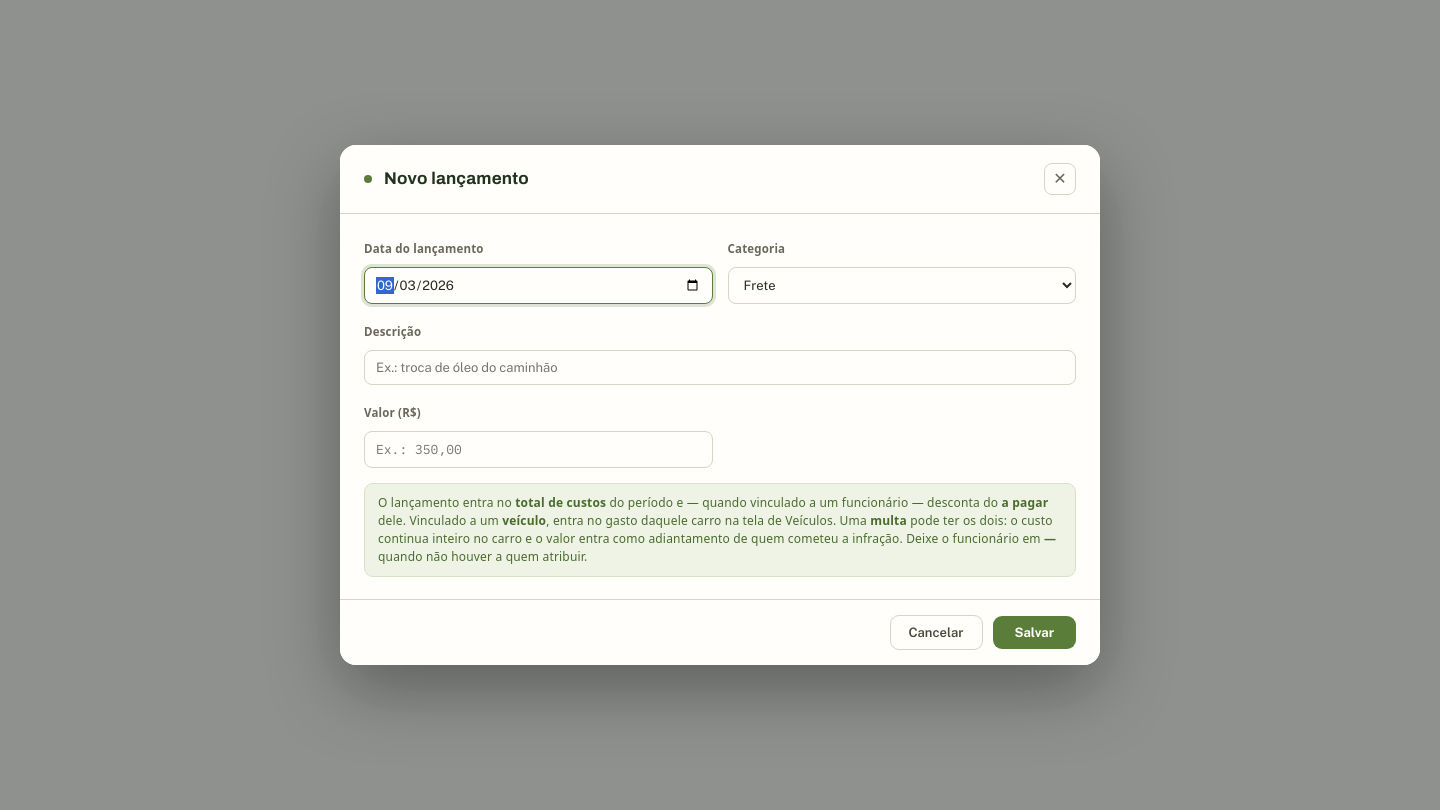
ModalLancamento — campo funcionário só nas categorias certas › mudar para Salário mostra o campo funcionario
Select "Salário" in the dropdown labelled "Categoria" at (902, 286), box [728,267,1076,304]
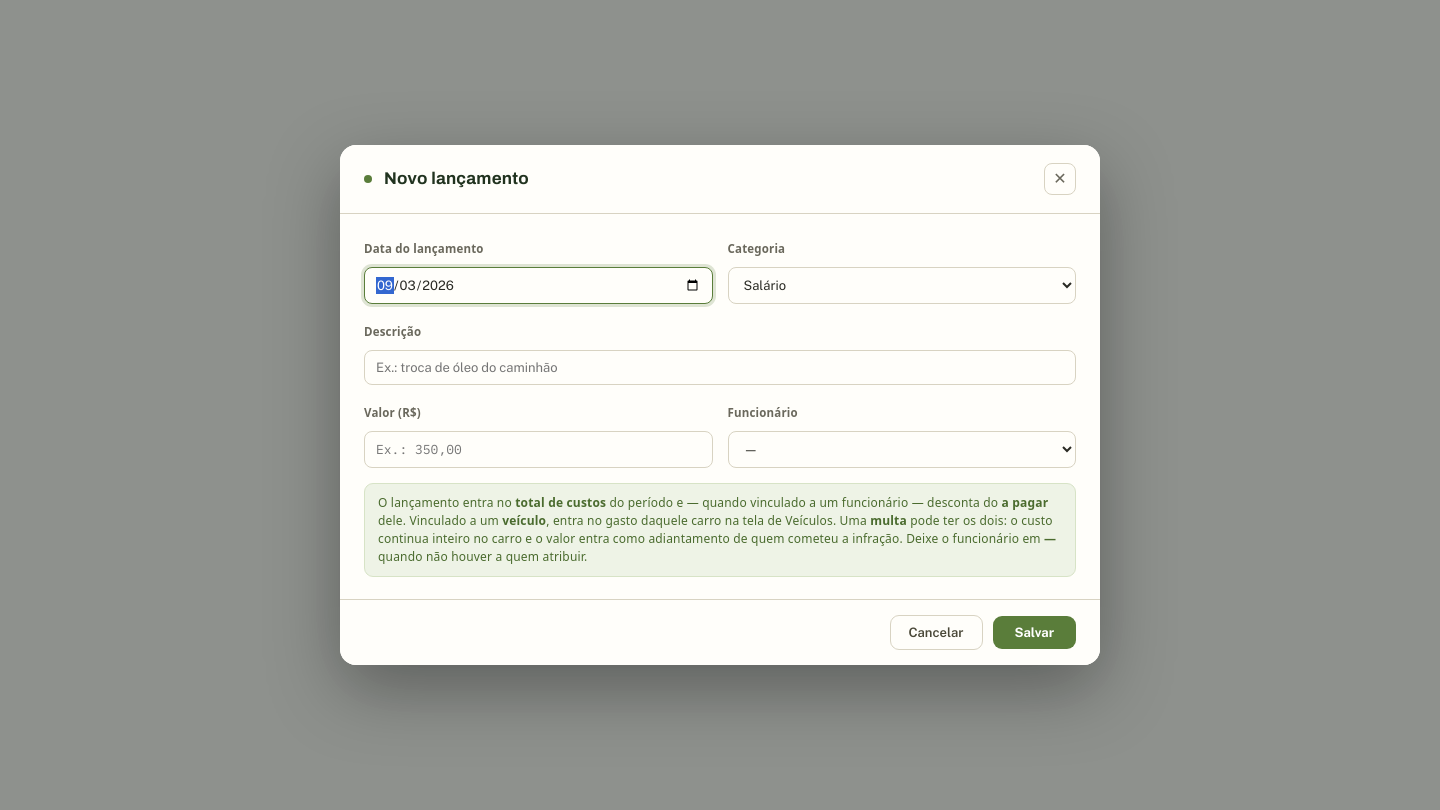
Result: the dropdown labelled "Funcionário" is shown at [728,431,1076,468]
